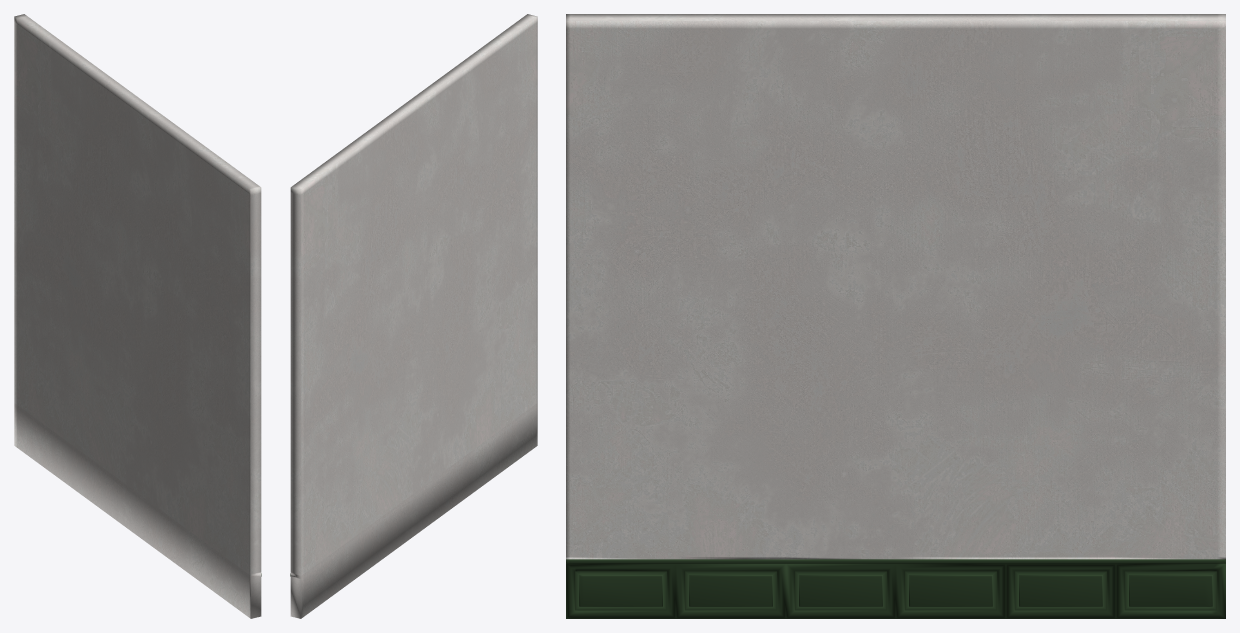
The model's file is Wall8x8TrimLarge.glb.
The picture shows the model from 3 angles, left to right: view 1: azimuth 30°, elevation 25°; view 2: azimuth 150°, elevation 25°; view 3: azimuth 270°, elevation 25°; orthographic projection. The views are drawn at different scales.
Parts seen in each view (by area): view 1: Wall-8m; view 2: Wall-8m; view 3: Wall-8m.
Boxes of the visible parts, x1,y1,x2,y2 form: Wall-8m: (14,14,261,618); Wall-8m: (290,14,537,618); Wall-8m: (566,14,1225,618).
Size of the model in its own units: 0.2177 by 8 by 8.
Materials: 2 (1 with a texture image).
